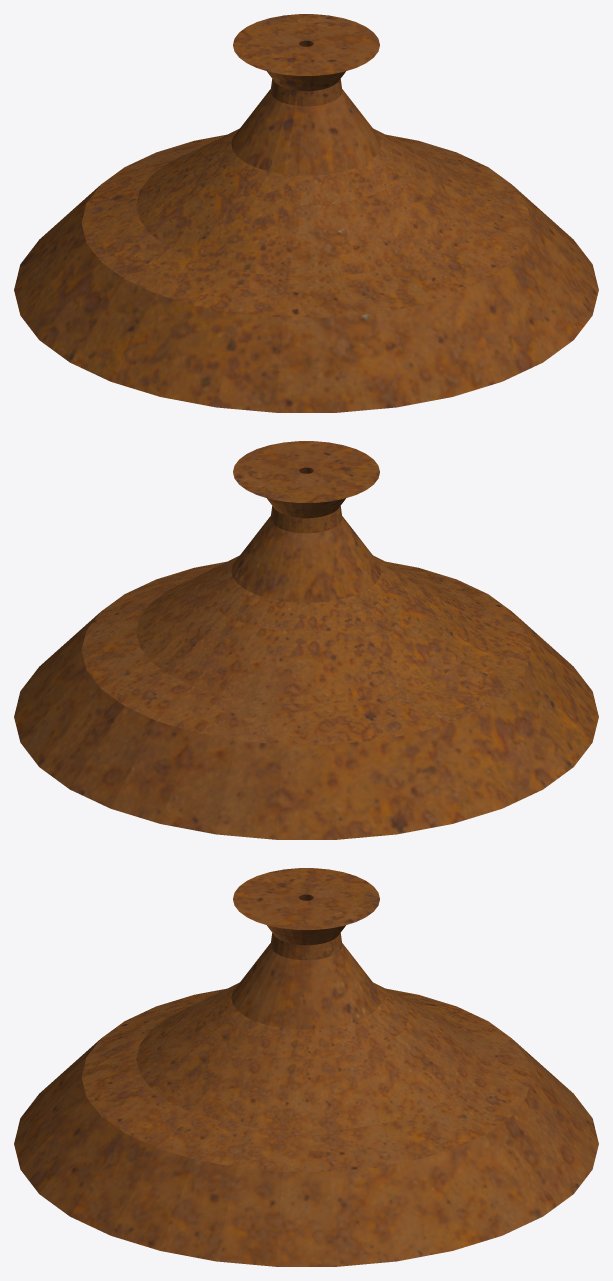
The model's file is mainLamp.fbx.
3 renders of one model, top to bottom at view 1: azimuth 30°, elevation 25°; view 2: azimuth 150°, elevation 25°; view 3: azimuth 270°, elevation 25°, orthographic.
Parts seen in each view (by area): view 1: Cylinder; view 2: Cylinder; view 3: Cylinder.
Boxes of the visible parts, x1,y1,x2,y2 form: Cylinder: (14, 14, 598, 412); Cylinder: (14, 441, 598, 839); Cylinder: (14, 868, 598, 1266).
Bounding box in the file's own units: 3.88 × 1.81 × 3.9.
